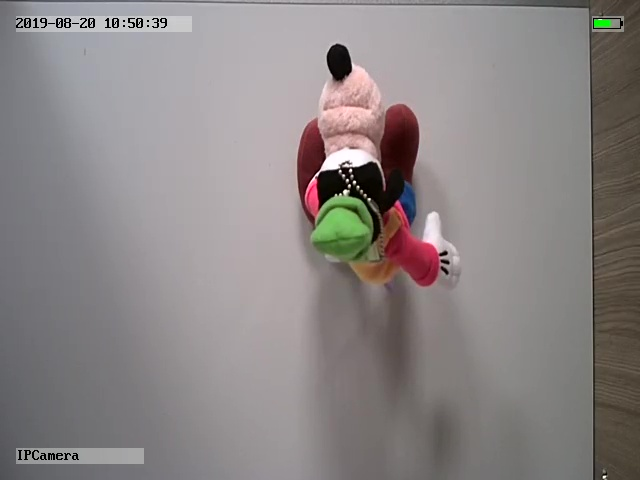goofy: (294, 41, 462, 291)
